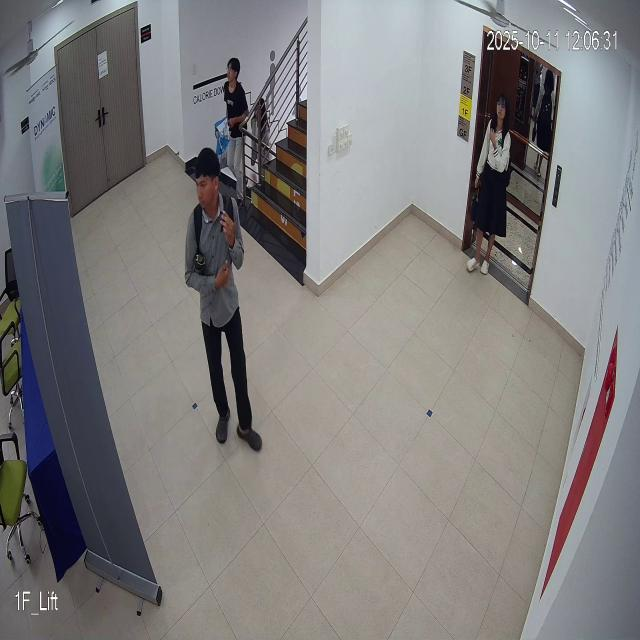face: (190, 139, 224, 225)
